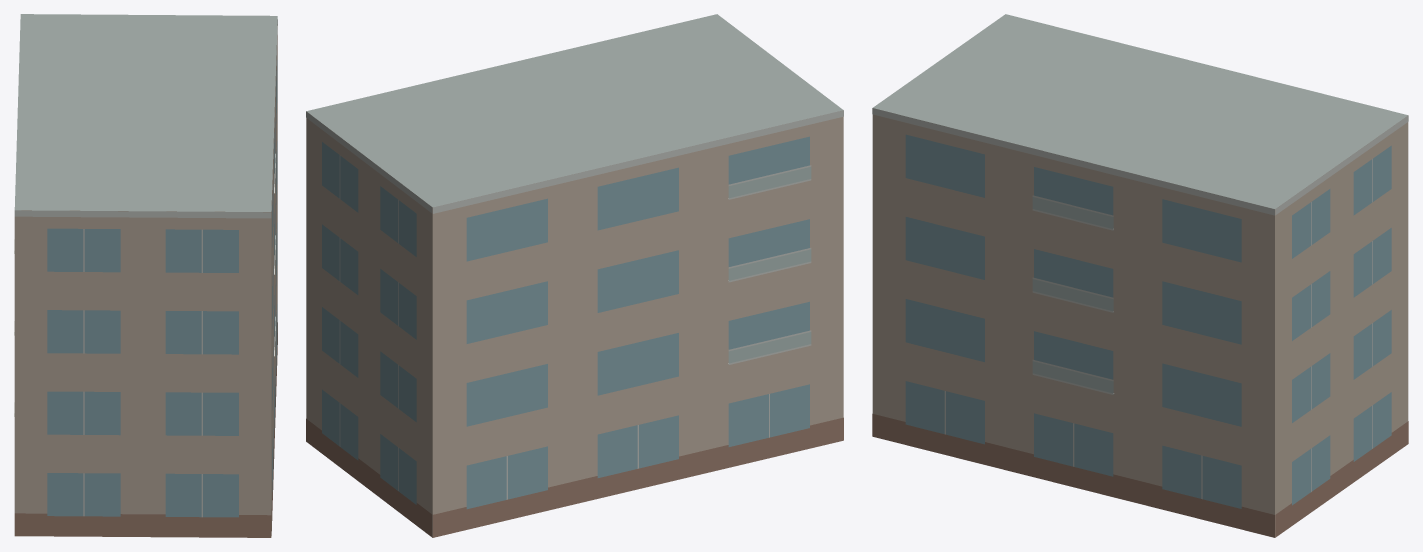
File: survey-upis-32962456.glb
The picture shows the model from 3 angles, left to right: view 1: azimuth 30°, elevation 25°; view 2: azimuth 150°, elevation 25°; view 3: azimuth 270°, elevation 25°; orthographic projection.
Parts seen in each view (by area): view 1: survey-upis-32962456.tmp; view 2: survey-upis-32962456.tmp; view 3: survey-upis-32962456.tmp.
Boxes of the visible parts, left/top/right/bottom form: survey-upis-32962456.tmp: left=14, top=14, right=277, bottom=537; survey-upis-32962456.tmp: left=306, top=14, right=843, bottom=537; survey-upis-32962456.tmp: left=872, top=14, right=1408, bottom=537.
Size of the model in its own units: 15.93 by 12.5 by 18.49.
